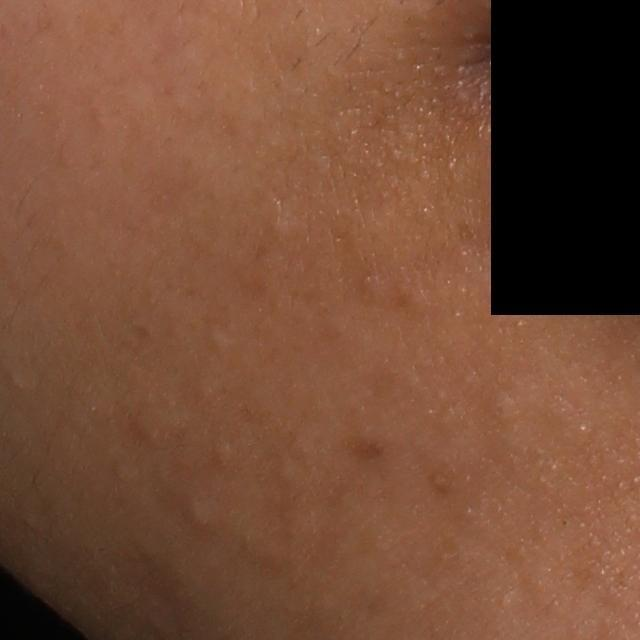comedo: (184, 491, 226, 533), (485, 394, 518, 425), (203, 326, 233, 353)
